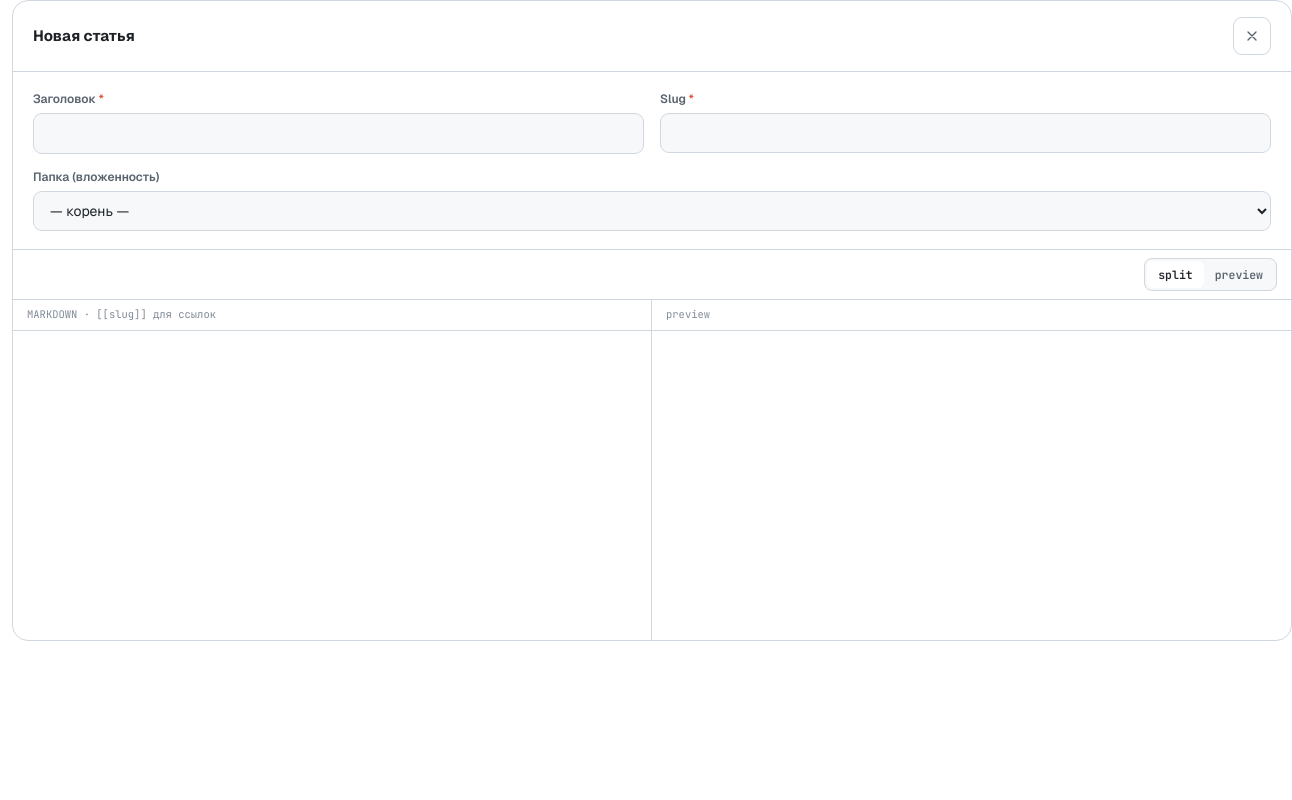
KbArticleEditor › переключение split / preview скрывает исходник
Expected: the text box named "MARKDOWN · [ [slug]] для ссылок" is shown, 13,331 -> 651,640
Click the button "preview" at coordinates (1239, 275), box 1204,261 -> 1274,288
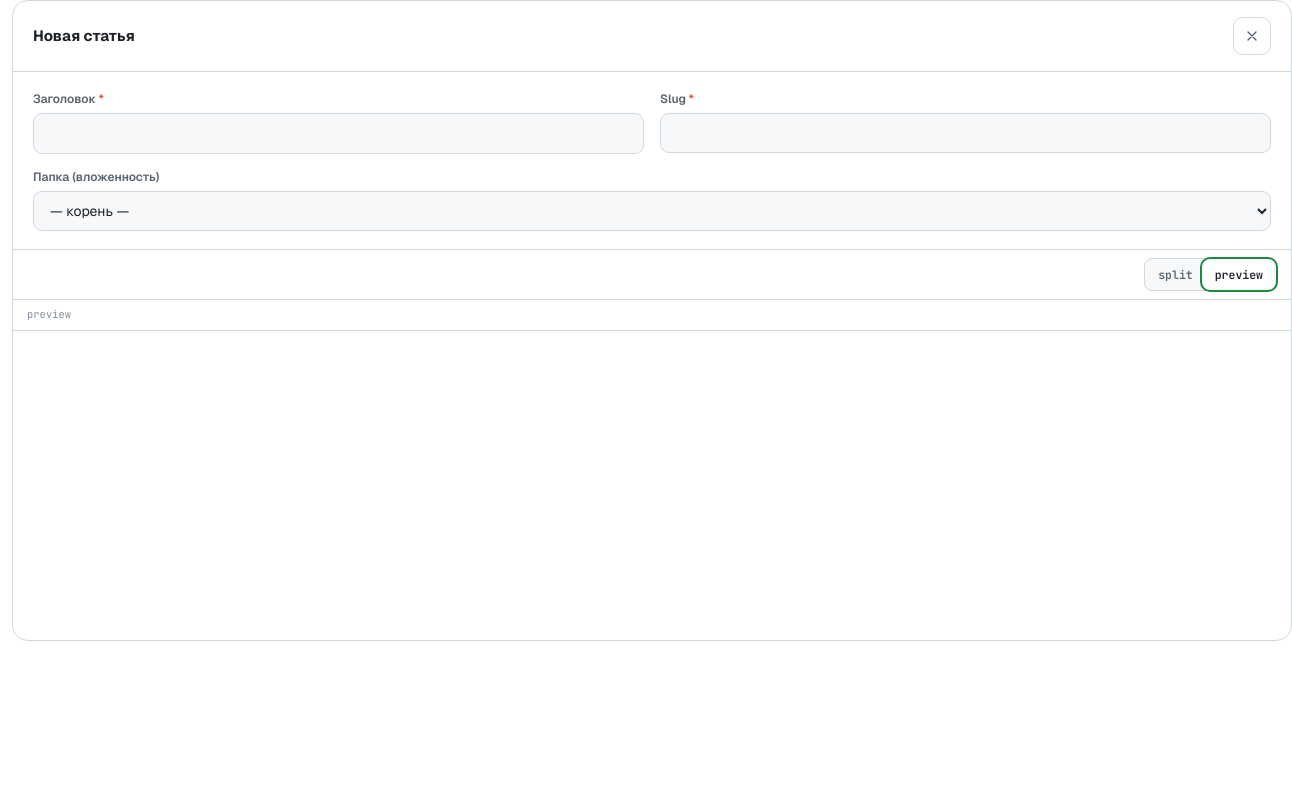
Expected: the text box is gone
Click the button "split" at coordinates (1175, 275), box 1147,261 -> 1204,288
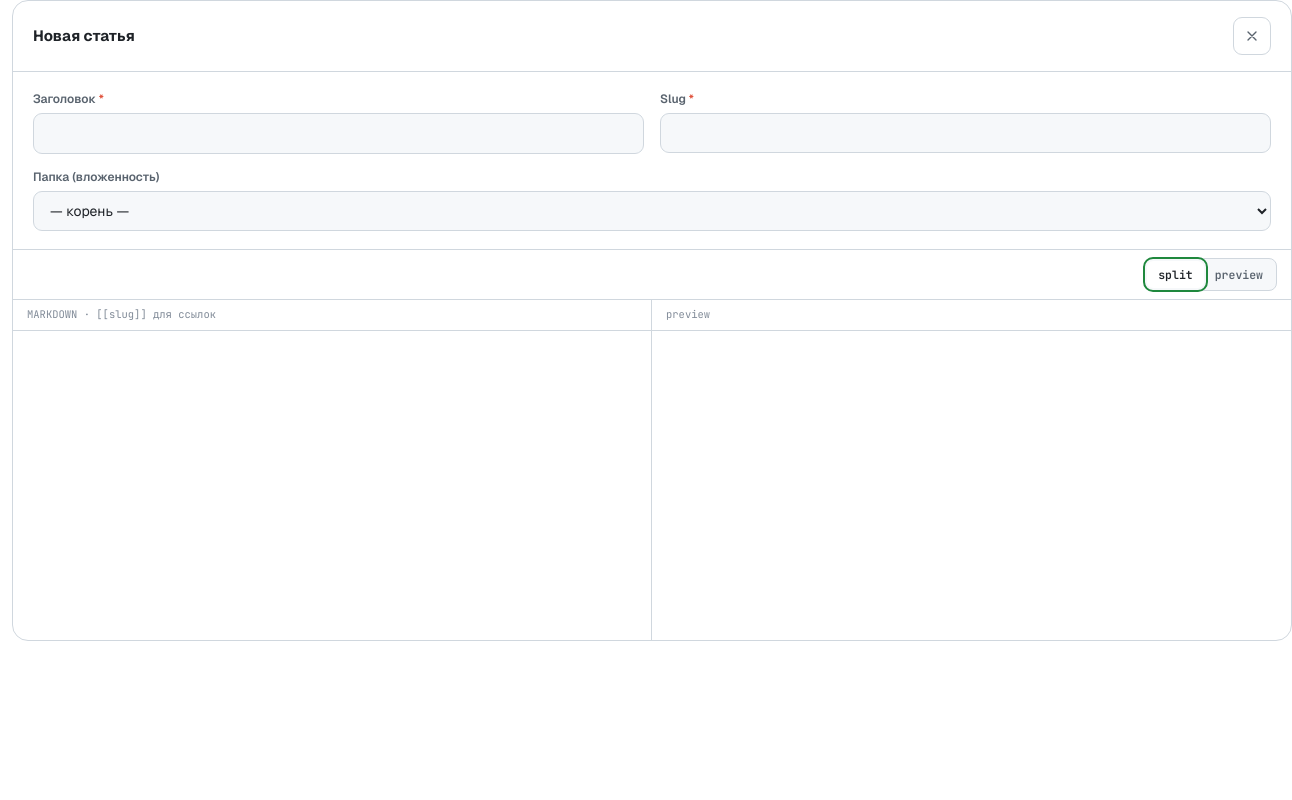
Expected: the text box named "MARKDOWN · [ [slug]] для ссылок" is shown, 13,331 -> 651,640
